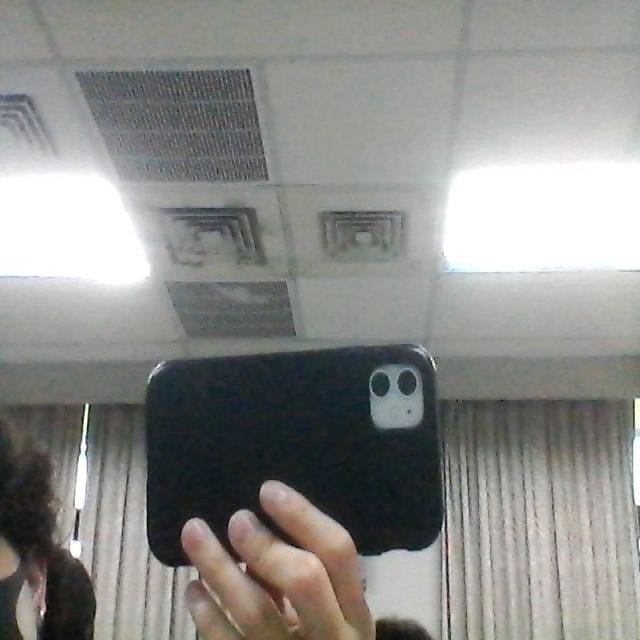phone: (140, 338, 447, 568)
